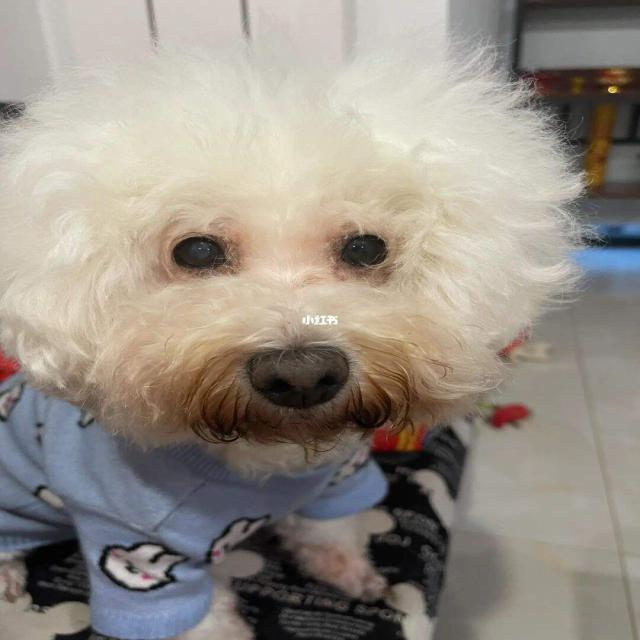eye: (166, 228, 238, 276), (334, 230, 394, 270)
